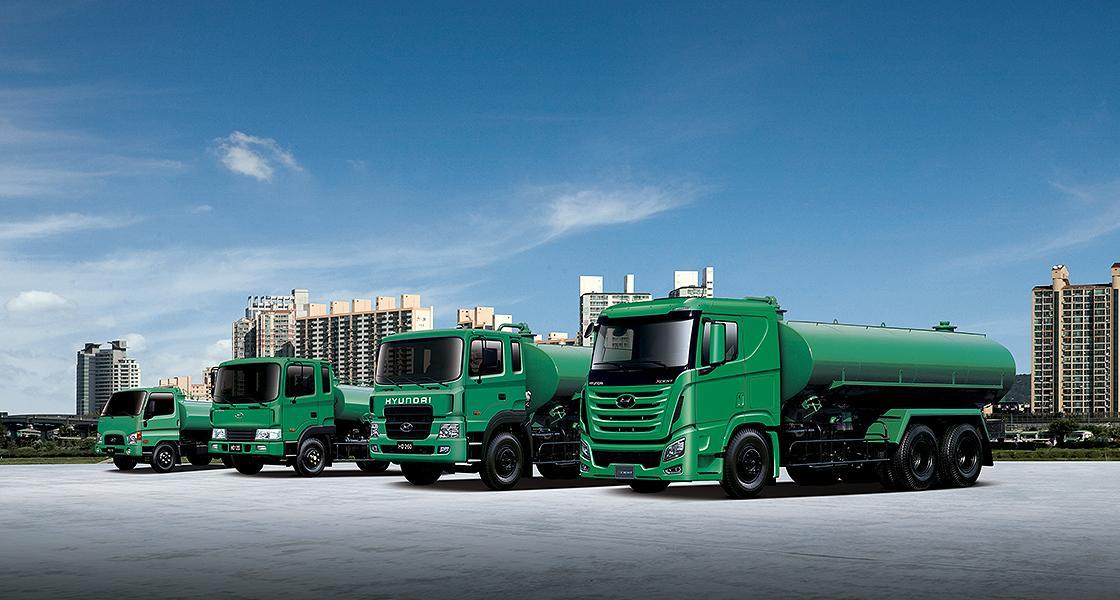truck: (576, 294, 1017, 498), (368, 327, 600, 488), (206, 357, 391, 476), (96, 387, 213, 473)
